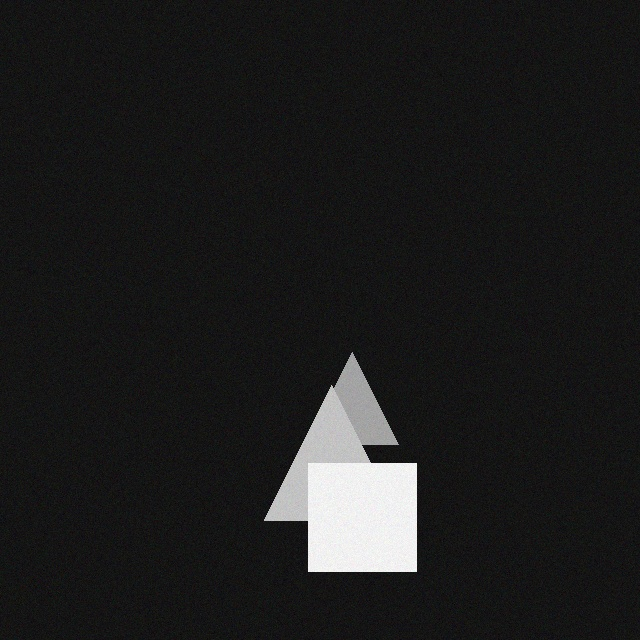square: (293, 474, 401, 582)
triangle: (249, 396, 384, 531), (291, 363, 383, 455)
